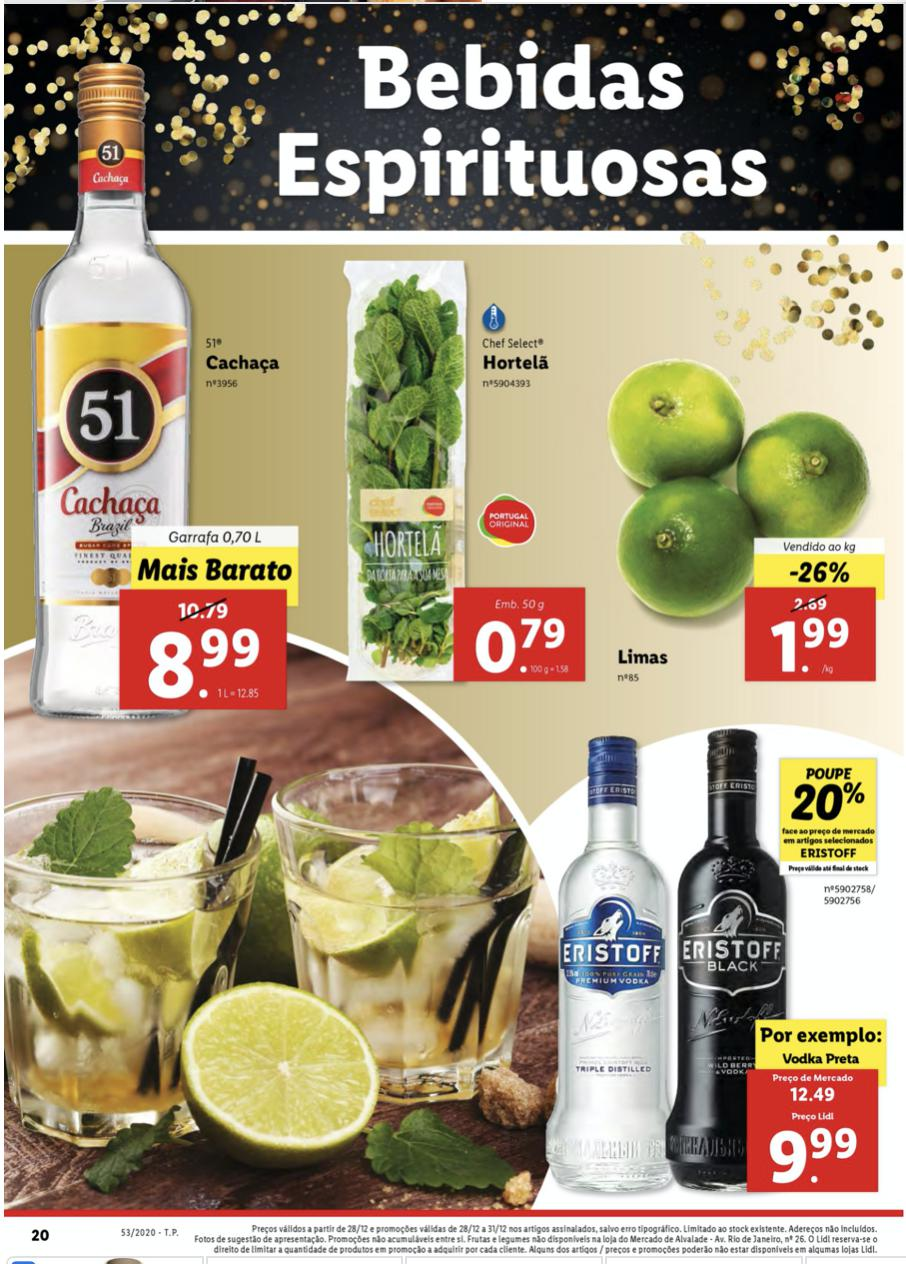name: (199, 347, 290, 381), (474, 348, 556, 376), (609, 645, 674, 673)
price: (134, 623, 274, 709), (757, 1103, 870, 1192), (463, 611, 576, 683), (759, 612, 859, 681)
product: (523, 725, 887, 1197), (20, 245, 317, 729), (334, 248, 598, 690), (598, 347, 893, 690)
promotion: (787, 776, 868, 826), (787, 558, 859, 590)
